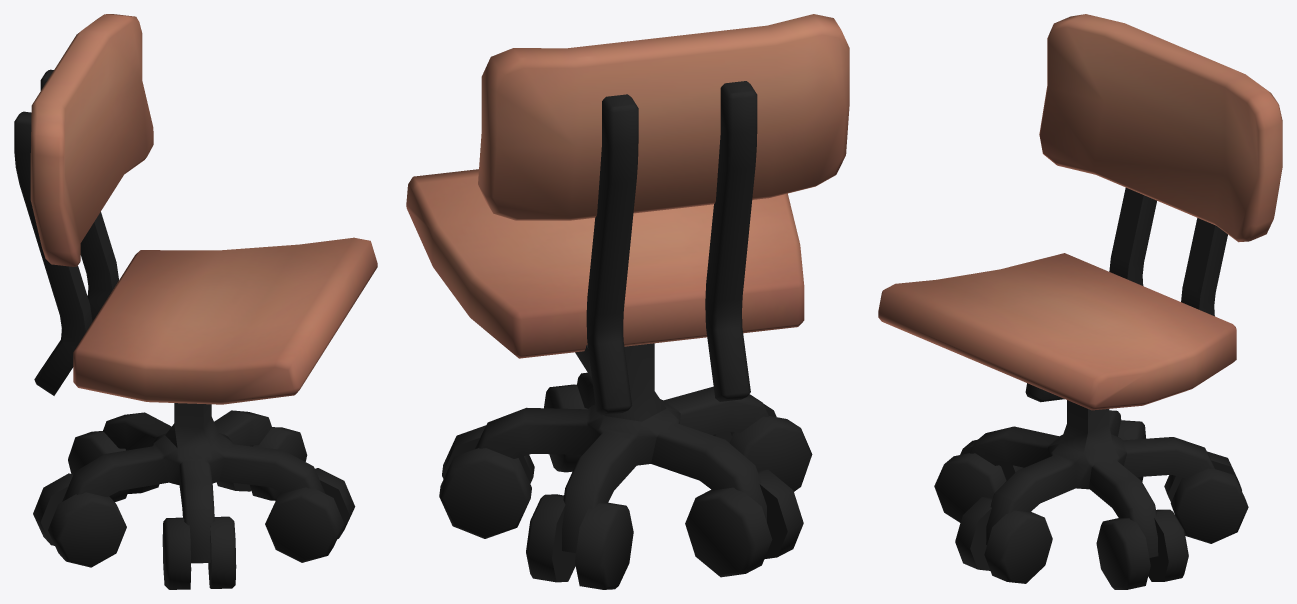
Rendered from Teacher'sSeat.fbx.
3 renders of one model, left to right at view 1: azimuth 30°, elevation 25°; view 2: azimuth 150°, elevation 25°; view 3: azimuth 270°, elevation 25°, orthographic. The views are drawn at different scales.
Visible parts, largest first — view 1: Teacher'sSeat.001, Teacher'sSeat.016, Teacher'sSeat.005, Teacher'sSeat.007, Teacher'sSeat.002, Teacher'sSeat.011, Teacher'sSeat.004, Teacher'sSeat.008, Teacher'sSeat.009, Teacher'sSeat.013, Teacher'sSeat.014, Teacher'sSeat.010 (+1 smaller); view 2: Teacher'sSeat.016, Teacher'sSeat.001, Teacher'sSeat.005, Teacher'sSeat.007, Teacher'sSeat.004, Teacher'sSeat.015, Teacher'sSeat.010, Teacher'sSeat.013, Teacher'sSeat.008, Teacher'sSeat.012, Teacher'sSeat.011, Teacher'sSeat.006 (+1 smaller); view 3: Teacher'sSeat.016, Teacher'sSeat.001, Teacher'sSeat.005, Teacher'sSeat.012, Teacher'sSeat.006, Teacher'sSeat.014, Teacher'sSeat.009, Teacher'sSeat.007, Teacher'sSeat.004, Teacher'sSeat.015, Teacher'sSeat.002, Teacher'sSeat.013.
Boxes of the visible parts, bbox=[...] form: Teacher'sSeat.001: bbox=[73, 237, 377, 404]; Teacher'sSeat.016: bbox=[30, 14, 153, 266]; Teacher'sSeat.005: bbox=[62, 403, 325, 563]; Teacher'sSeat.007: bbox=[14, 111, 92, 395]; Teacher'sSeat.002: bbox=[265, 487, 344, 562]; Teacher'sSeat.011: bbox=[48, 492, 126, 567]; Teacher'sSeat.004: bbox=[40, 69, 118, 321]; Teacher'sSeat.008: bbox=[162, 517, 191, 589]; Teacher'sSeat.009: bbox=[208, 516, 236, 588]; Teacher'sSeat.013: bbox=[68, 431, 128, 501]; Teacher'sSeat.014: bbox=[250, 427, 307, 500]; Teacher'sSeat.010: bbox=[33, 473, 73, 545]; Teacher'sSeat.016: bbox=[478, 14, 849, 220]; Teacher'sSeat.001: bbox=[406, 169, 804, 358]; Teacher'sSeat.005: bbox=[475, 343, 768, 553]; Teacher'sSeat.007: bbox=[705, 81, 757, 401]; Teacher'sSeat.004: bbox=[586, 94, 638, 415]; Teacher'sSeat.015: bbox=[439, 448, 531, 538]; Teacher'sSeat.010: bbox=[685, 487, 772, 577]; Teacher'sSeat.013: bbox=[575, 502, 633, 589]; Teacher'sSeat.008: bbox=[730, 416, 812, 491]; Teacher'sSeat.012: bbox=[526, 494, 575, 582]; Teacher'sSeat.011: bbox=[757, 469, 803, 559]; Teacher'sSeat.006: bbox=[544, 384, 587, 472]; Teacher'sSeat.016: bbox=[1039, 14, 1282, 242]; Teacher'sSeat.001: bbox=[878, 253, 1236, 410]; Teacher'sSeat.005: bbox=[970, 400, 1215, 557]; Teacher'sSeat.012: bbox=[1170, 468, 1248, 543]; Teacher'sSeat.006: bbox=[984, 510, 1052, 583]; Teacher'sSeat.014: bbox=[1096, 518, 1150, 589]; Teacher'sSeat.009: bbox=[934, 453, 1006, 522]; Teacher'sSeat.007: bbox=[1109, 187, 1156, 285]; Teacher'sSeat.004: bbox=[1181, 218, 1227, 316]; Teacher'sSeat.015: bbox=[1148, 509, 1188, 581]; Teacher'sSeat.002: bbox=[955, 497, 992, 570]; Teacher'sSeat.013: bbox=[1164, 451, 1241, 502].
Bounding box in the file's own units: 0.9031 × 0.9031 × 1.11.
